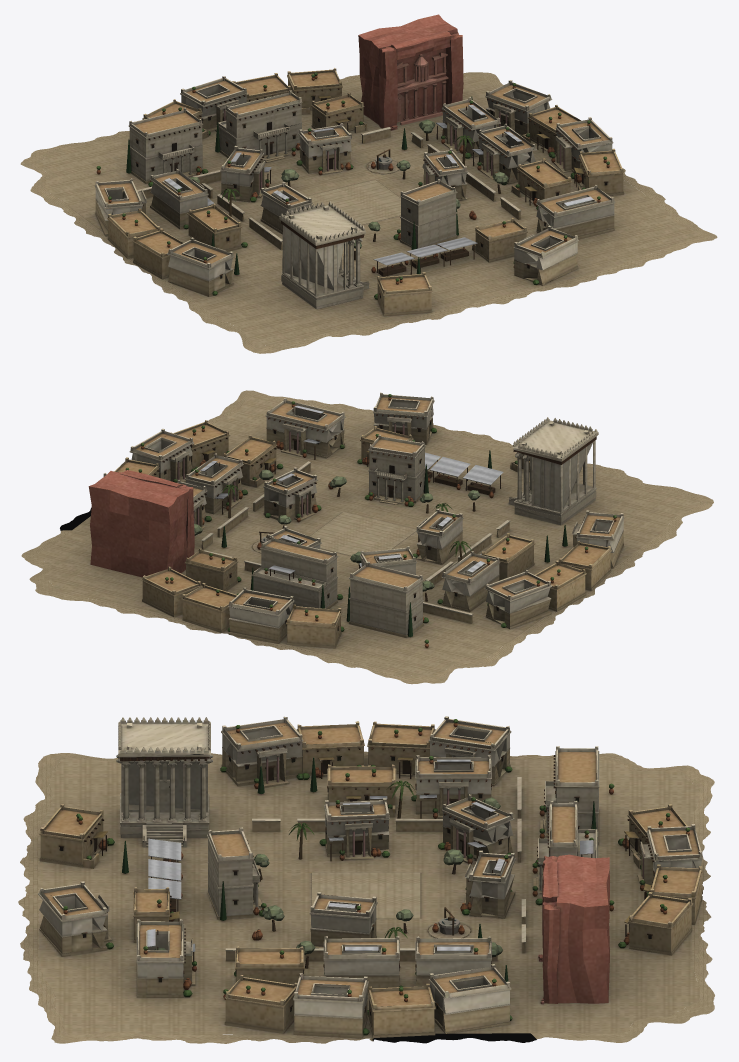
File: classical-town-big-b-levant.glb
The picture shows the model from 3 angles, top to bottom: view 1: azimuth 30°, elevation 25°; view 2: azimuth 150°, elevation 25°; view 3: azimuth 270°, elevation 25°; orthographic projection. The views are drawn at different scales.
Visible parts, largest first — view 1: LOD0; view 2: LOD0; view 3: LOD0.
Boxes of the visible parts, <box> form: LOD0: <box>20,14,717,353</box>; LOD0: <box>21,390,713,684</box>; LOD0: <box>18,716,714,1043</box>.
Size of what is drawn, in the model's own units: 8.05 by 1.3 by 8.12.
Materials: 3 (3 with a texture image).
